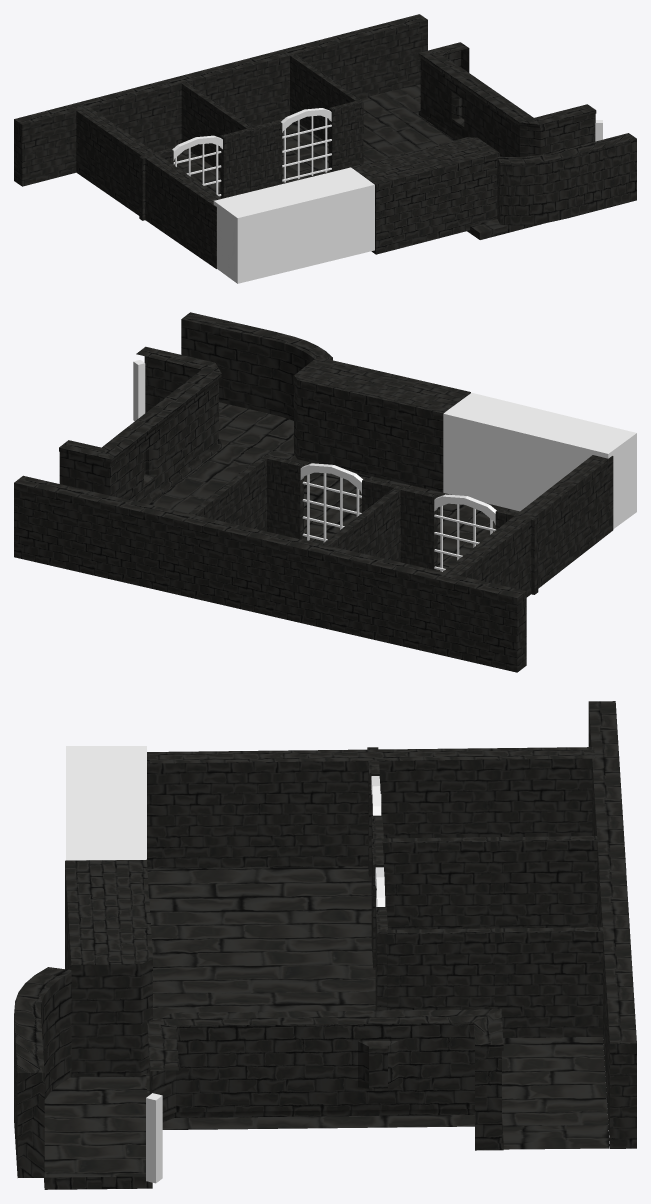
The model's file is DungeonWithTextures001.fbx.
The picture shows the model from 3 angles, top to bottom: view 1: azimuth 30°, elevation 25°; view 2: azimuth 150°, elevation 25°; view 3: azimuth 270°, elevation 25°; orthographic projection. The views are drawn at different scales.
Parts seen in each view (by area): view 1: New_Wall, pCube12, pCube7, polySurface449, pCube8, pCube7__1_, pCube14, pCube1, pCube388__3_, pCube388__2_, pCube388, pCube388__5_ (+8 smaller); view 2: pCube7__1_, pCube7, pCube12, New_Wall, polySurface449, pCube8, pCube14, pCube1, pCube388__5_, pCube388__3_, pCube5, pCube1__1_ (+9 smaller); view 3: pCube8, polySurface449, pCube1__1_, pCube12, pCube1, pCube417, pCube5, pCube388, pCube388__1_, New_Wall, pCube14, pCube417__1_ (+6 smaller).
Boxes of the visible parts, x1,y1,x2,y2 form: New_Wall: (213,167,374,283); pCube12: (351,137,499,254); pCube7: (217,14,427,126); polySurface449: (418,42,596,156); pCube8: (76,107,221,268); pCube7__1_: (14,66,224,186); pCube14: (497,133,636,225); pCube1: (252,89,454,177); pCube388__3_: (329,100,363,171); pCube388__2_: (249,121,282,191); pCube388: (181,82,219,166); pCube388__5_: (220,127,254,198); pCube7__1_: (265,533,526,672); pCube7: (14,475,274,614); pCube12: (294,357,470,492); New_Wall: (443,392,636,528); polySurface449: (59,346,221,504); pCube8: (442,455,613,597); pCube14: (181,312,332,420); pCube1: (149,439,410,544); pCube388__5_: (396,487,437,570); pCube388__3_: (262,454,303,539); pCube5: (219,402,294,456); pCube1__1_: (407,485,519,571); pCube8: (147,747,594,868); polySurface449: (147,1009,503,1150); pCube1__1_: (147,866,375,993); pCube12: (65,859,152,1076); pCube1: (146,991,608,1129); pCube417: (495,927,602,1037); pCube5: (44,1074,152,1189); pCube388: (490,836,597,928); pCube388__1_: (382,837,490,929); New_Wall: (66,746,146,860); pCube14: (14,967,71,1177); pCube417__1_: (387,928,494,1010).
Bounding box in the file's own units: 3307 × 515 × 2308.
